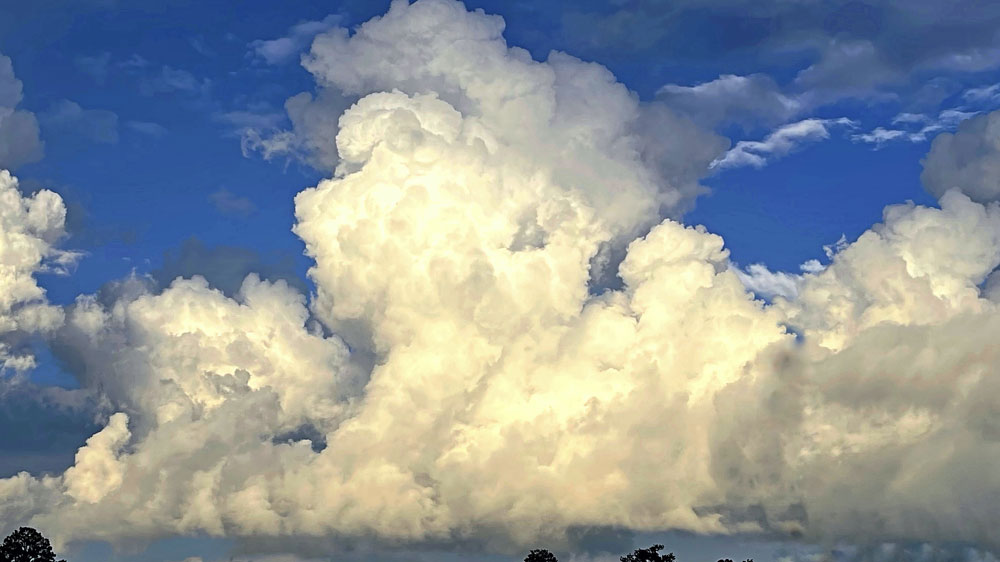Cumulus: (292, 19, 756, 555), (47, 227, 397, 543), (762, 166, 1000, 531)
